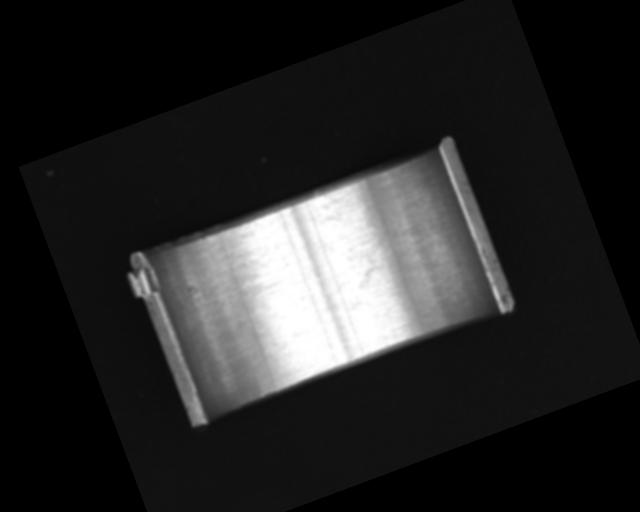blot: (341, 238, 393, 293)
